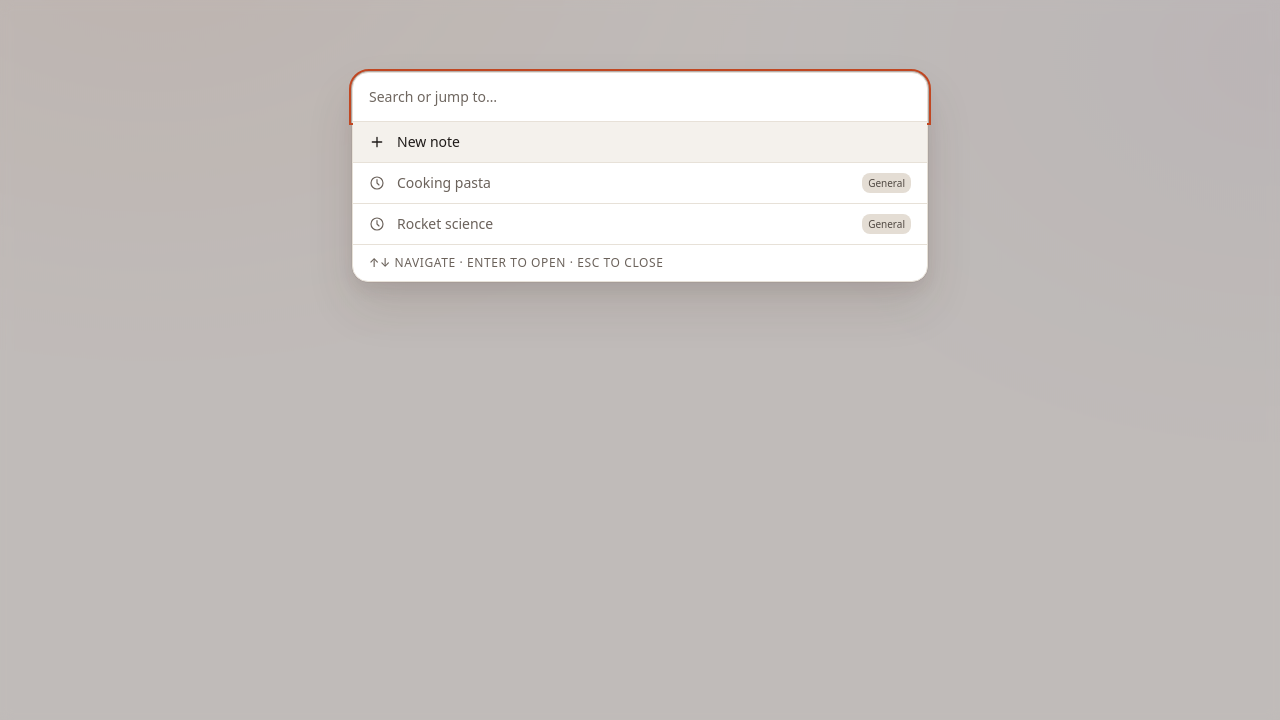
Test: CommandPalette › ranks a title match above a stronger semantic hit, in one list
This screenshot has width=1280, height=720.
Type "rocket" into the dropdown named "Search notes" at (640, 97), box x1=353 y1=73 x2=927 y2=121
Wait 200 ms
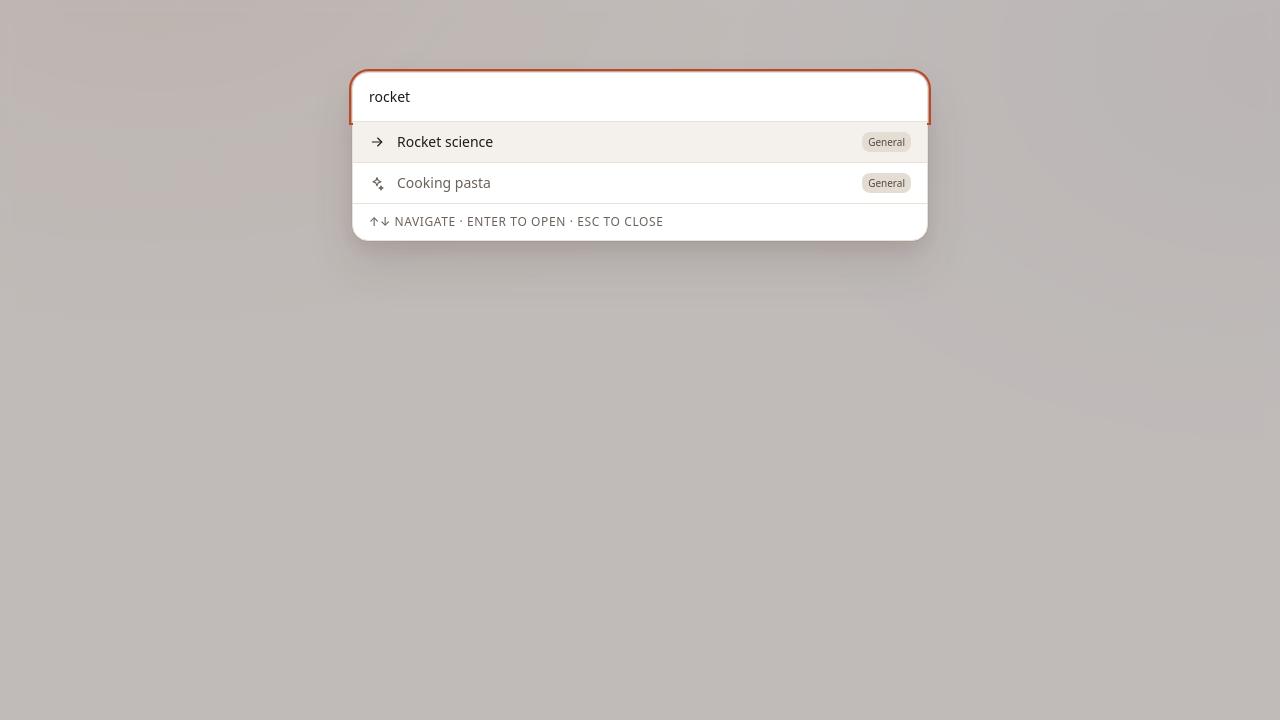
Expected: the text "Rocket science" is shown, x1=397 y1=132 x2=493 y2=151
